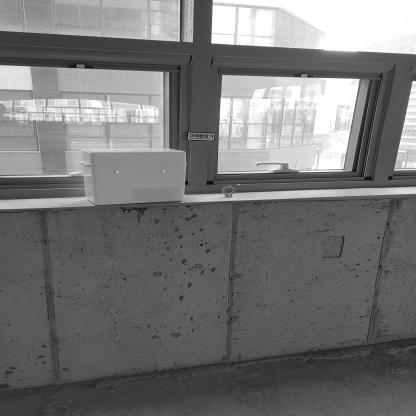DDL: (82, 147, 183, 206)
